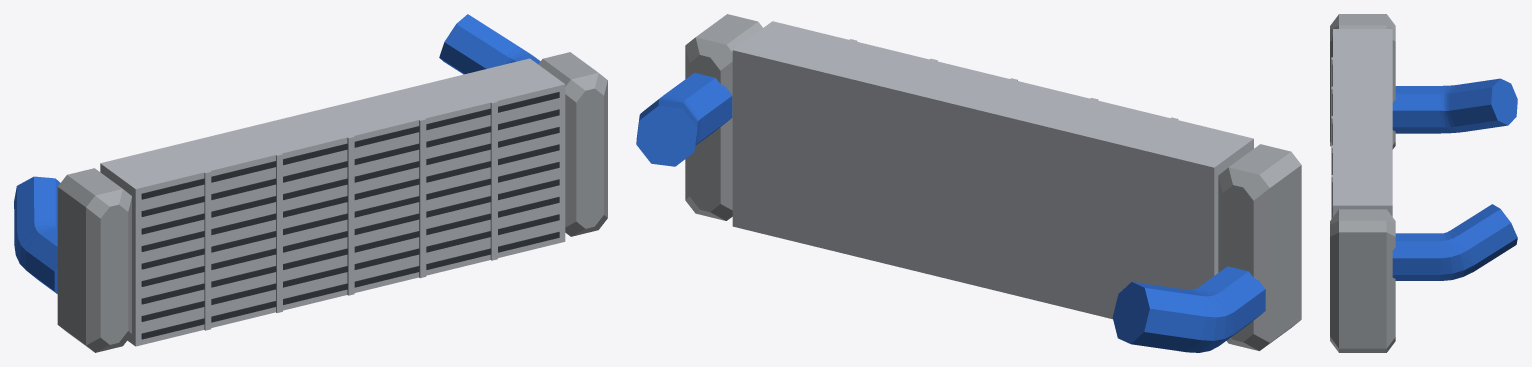
File: kaze_gt.glb
3 renders of one model, left to right at view 1: azimuth 30°, elevation 25°; view 2: azimuth 150°, elevation 25°; view 3: azimuth 270°, elevation 25°, orthographic. The views are drawn at different scales.
Parts seen in each view (by area): view 1: model; view 2: model; view 3: model.
Boxes of the visible parts, x1=… form: model: x1=14, y1=14, x2=607, y2=352; model: x1=636, y1=14, x2=1301, y2=352; model: x1=1330, y1=14, x2=1517, y2=352.
Bounding box in the file's own units: 0.68 × 0.196 × 0.2519.
2 materials, 1 textured.
